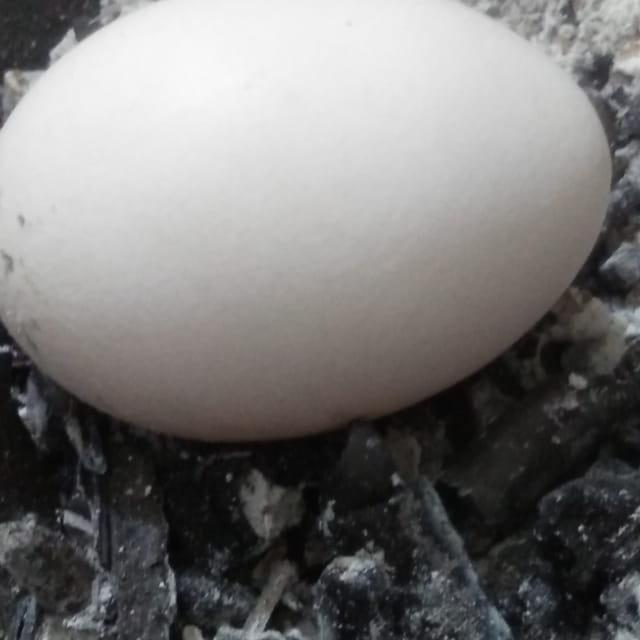egg: (0, 0, 615, 446)
